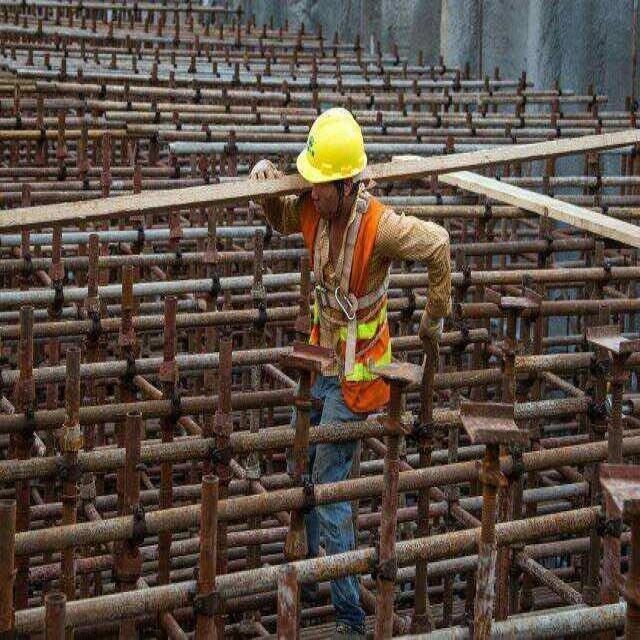Arnes_seguridad: (308, 179, 396, 317)
